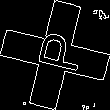P_W: (26, 31, 84, 79)
